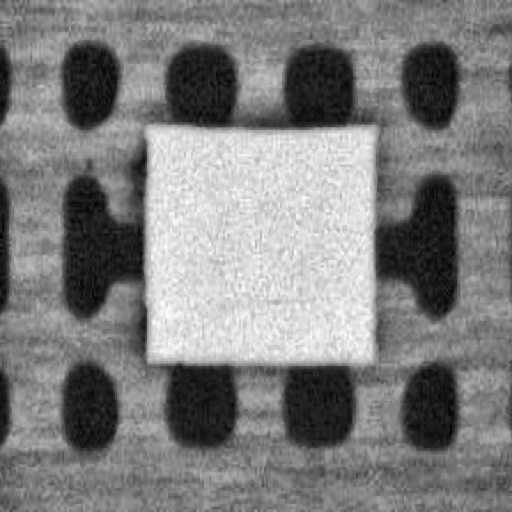DIE_CRACK: (255, 289, 349, 308)
